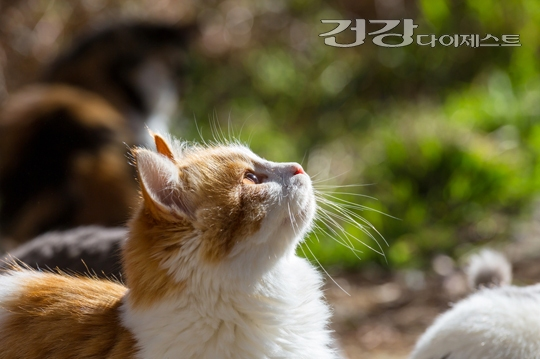cat: (1, 126, 355, 359)
cat-face: (120, 125, 326, 298)
